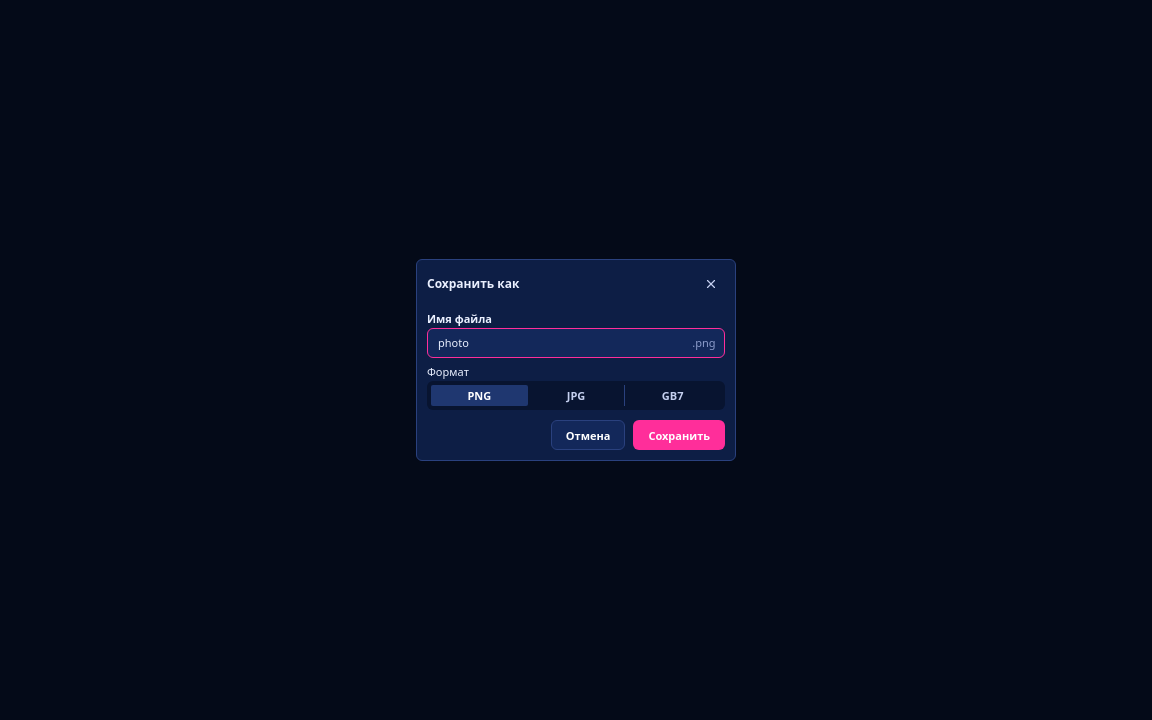
SaveDialog › fields depend on format; name default; mask default
expect the field labelled "Имя файла" holds "photo": met, box [427,328,725,358]
expect the field labelled "Качество" is not shown: met
Click the text "JPG" at (576, 396), box [567,388,585,403]
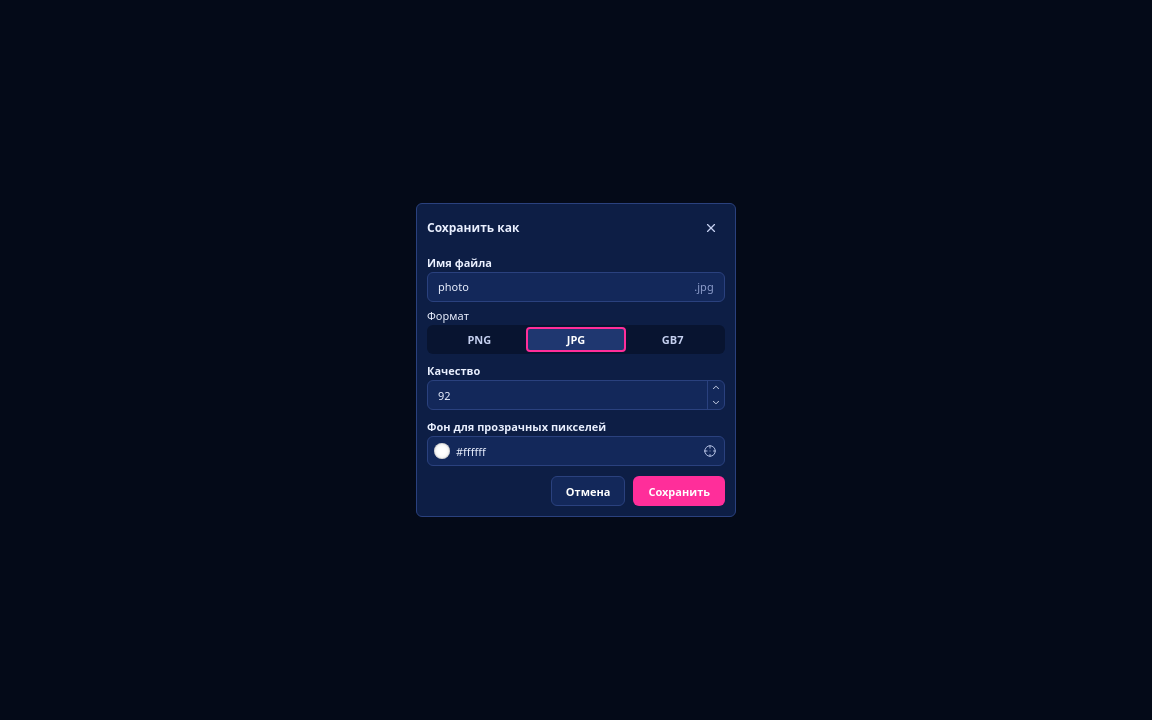
expect the field labelled "Качество" holds "92": met, box [427,380,725,410]
expect the field labelled "Фон для прозрачных пикселей" holds "#ffffff": met, box [427,436,725,466]
Click the text "GB7" at (673, 340), box [662,332,684,347]
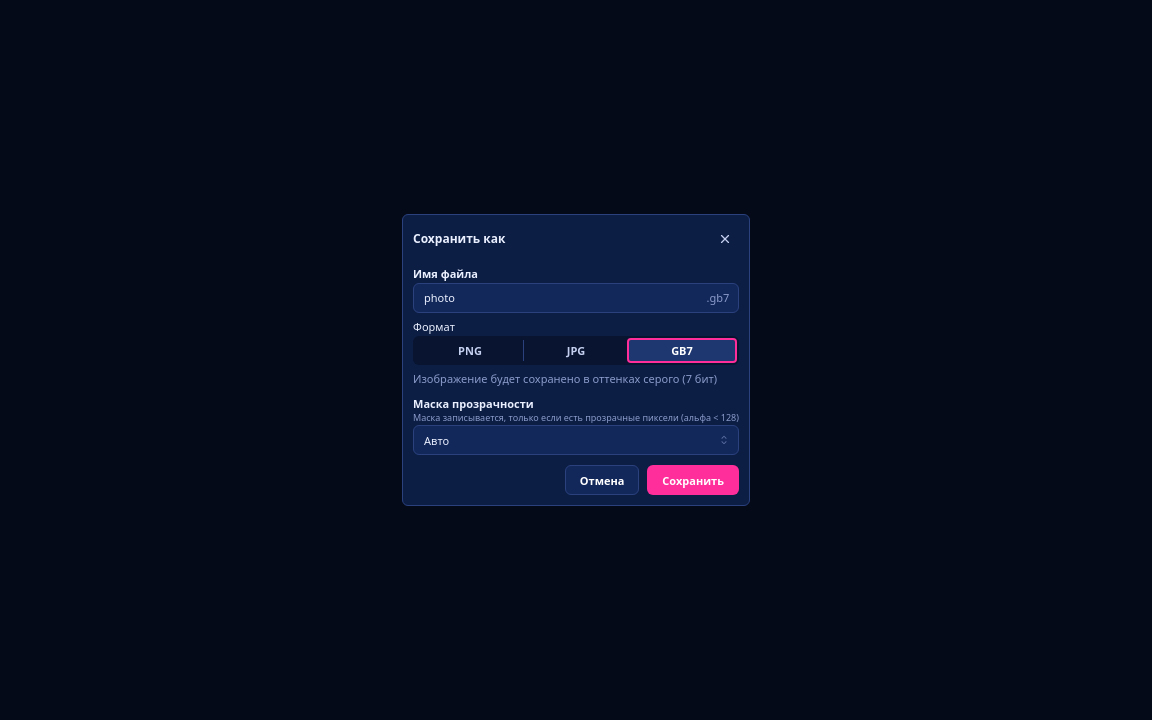
expect the text "Изображение будет сохранено в оттенках серого (7 бит)" is shown: met, box [413,371,739,386]
expect the label labelled "Качество" is gone: met
expect the dropdown labelled "Маска прозрачности" holds "Авто": met, box [413,426,739,456]
